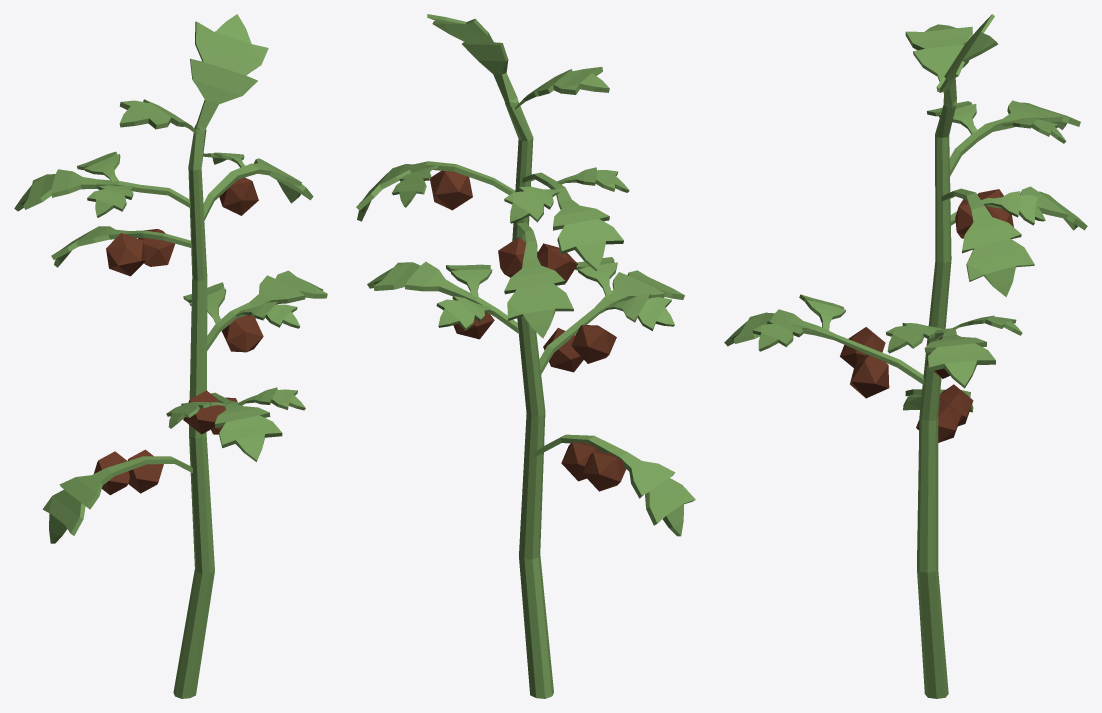
The model's file is tomato_4.gltf.
The picture shows the model from 3 angles, left to right: view 1: azimuth 30°, elevation 25°; view 2: azimuth 150°, elevation 25°; view 3: azimuth 270°, elevation 25°; orthographic projection. The views are drawn at different scales.
Visible parts, largest first — view 1: tomato_4; view 2: tomato_4; view 3: tomato_4.
Boxes of the visible parts, x1,y1,x2,y2 form: tomato_4: (14,14,327,698); tomato_4: (356,14,695,698); tomato_4: (724,14,1087,698).
Size of the model in its own units: 0.7932 by 1.72 by 0.81.
Materials: 1 (1 with a texture image).
